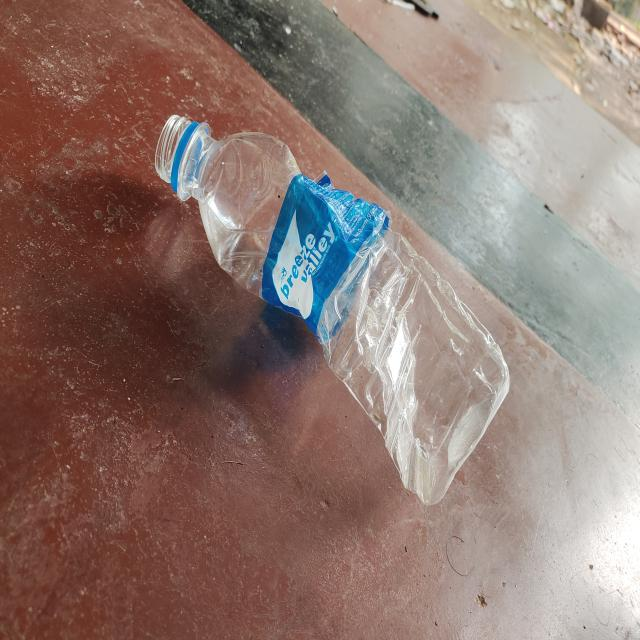plastic: (152, 104, 514, 506)
